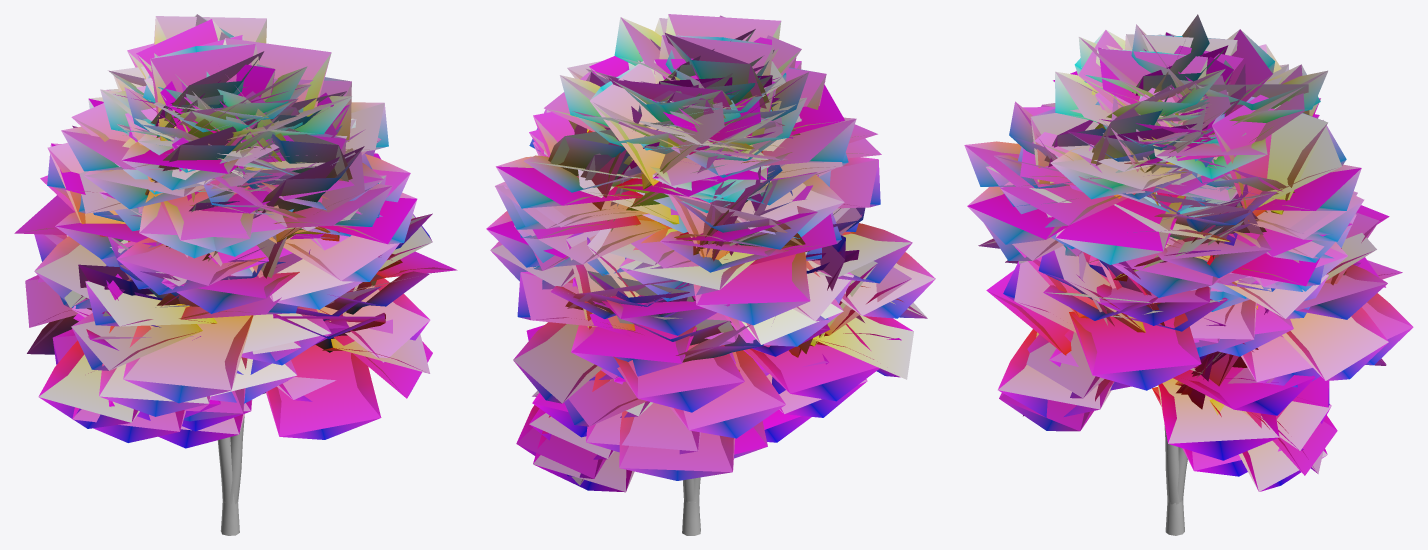
File: oak_02_4.fbx
3 views of the same model, side by side, from view 1: azimuth 30°, elevation 25°; view 2: azimuth 150°, elevation 25°; view 3: azimuth 270°, elevation 25° (orthographic). The views are drawn at different scales.
Parts seen in each view (by area): view 1: oak_leaves_02_4_shadow, oak_leaves_02_4_lod_0, oak_tree_02_4_lod_0; view 2: oak_leaves_02_4_shadow, oak_leaves_02_4_lod_0, oak_tree_02_4_lod_0; view 3: oak_leaves_02_4_shadow, oak_leaves_02_4_lod_0, oak_tree_02_4_lod_0.
Boxes of the visible parts, left/top/right/bottom form: oak_leaves_02_4_shadow: left=14, top=14, right=456, bottom=436; oak_leaves_02_4_lod_0: left=18, top=14, right=456, bottom=448; oak_tree_02_4_lod_0: left=217, top=416, right=244, bottom=535; oak_leaves_02_4_shadow: left=486, top=14, right=935, bottom=491; oak_leaves_02_4_lod_0: left=486, top=14, right=935, bottom=492; oak_tree_02_4_lod_0: left=682, top=477, right=700, bottom=535; oak_leaves_02_4_shadow: left=965, top=27, right=1413, bottom=491; oak_leaves_02_4_lod_0: left=964, top=14, right=1412, bottom=491; oak_tree_02_4_lod_0: left=1164, top=424, right=1187, bottom=535.
Size of what is drawn, in the model's own units: 11.38 by 13.52 by 11.38.
